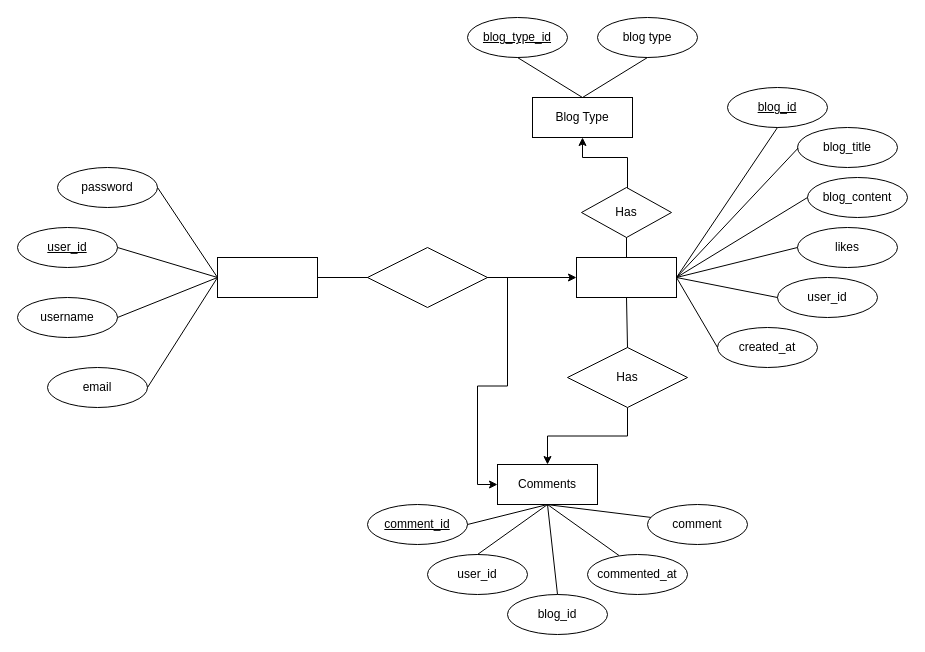
The diagram is 925 pixels wide and 652 high, and some of its shapes have lost their labels. The shapes that lost their labels are listed below. From the top down, each one's box as (x1, y1, x2, y2) in pixels, then its label:
(216, 256, 318, 298): User
(366, 246, 488, 308): Posts
(576, 256, 676, 298): Blogs
